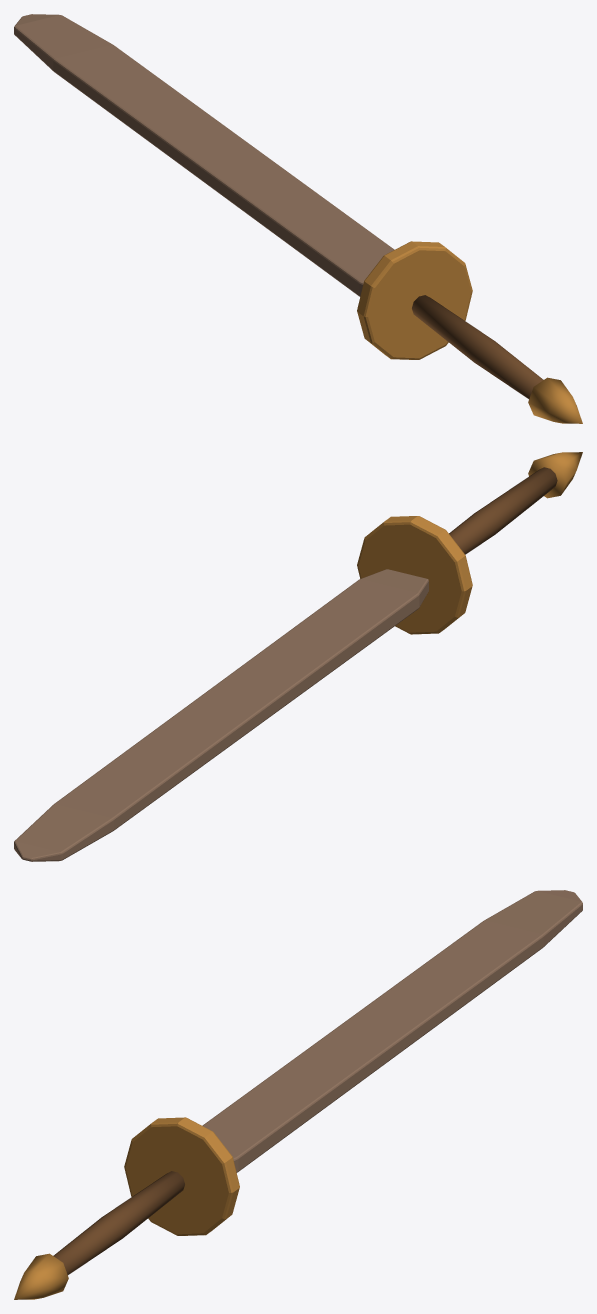
File: greatsword_10_cleaver_rusty.glb
The picture shows the model from 3 angles, top to bottom: view 1: azimuth 30°, elevation 25°; view 2: azimuth 150°, elevation 25°; view 3: azimuth 330°, elevation 25°; orthographic projection.
Visible parts, largest first — view 1: 10_cleaver_rusty_Blade, 10_cleaver_rusty_Guard, 10_cleaver_rusty_Grip, 10_cleaver_rusty_Pommel; view 2: 10_cleaver_rusty_Blade, 10_cleaver_rusty_Guard, 10_cleaver_rusty_Grip, 10_cleaver_rusty_Pommel; view 3: 10_cleaver_rusty_Blade, 10_cleaver_rusty_Guard, 10_cleaver_rusty_Grip, 10_cleaver_rusty_Pommel.
Boxes of the visible parts, left/top/right/bottom form: 10_cleaver_rusty_Blade: left=14, top=14, right=394, bottom=296; 10_cleaver_rusty_Guard: left=357, top=241, right=472, bottom=359; 10_cleaver_rusty_Grip: left=412, top=295, right=543, bottom=398; 10_cleaver_rusty_Pommel: left=528, top=377, right=582, bottom=423; 10_cleaver_rusty_Blade: left=14, top=569, right=428, bottom=861; 10_cleaver_rusty_Guard: left=357, top=516, right=472, bottom=634; 10_cleaver_rusty_Grip: left=449, top=467, right=557, bottom=554; 10_cleaver_rusty_Pommel: left=528, top=452, right=582, bottom=498; 10_cleaver_rusty_Blade: left=202, top=890, right=582, bottom=1172; 10_cleaver_rusty_Guard: left=124, top=1117, right=239, bottom=1235; 10_cleaver_rusty_Grip: left=53, top=1171, right=184, bottom=1274; 10_cleaver_rusty_Pommel: left=14, top=1253, right=68, bottom=1299.
Bounding box in the file's own units: 0.1587 × 0.1587 × 1.4.
